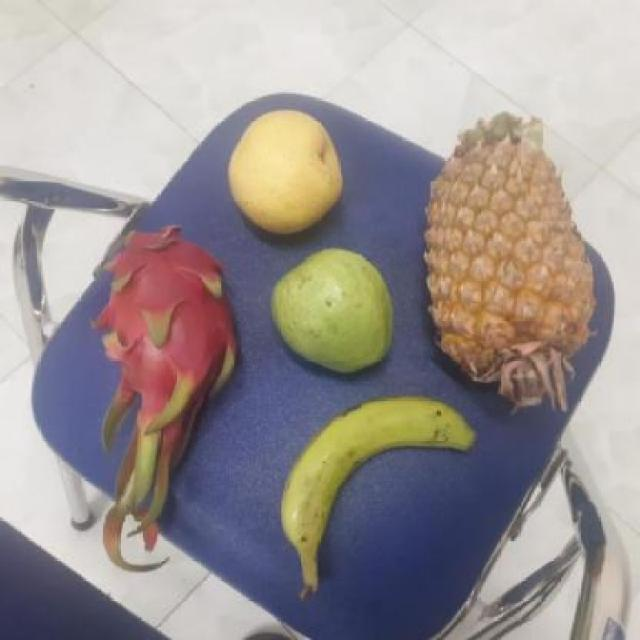banana: (271, 399, 471, 559)
dragon fruit: (95, 229, 238, 413)
guava: (268, 243, 400, 374)
pear: (222, 108, 347, 234)
pineapple: (422, 115, 592, 411)
